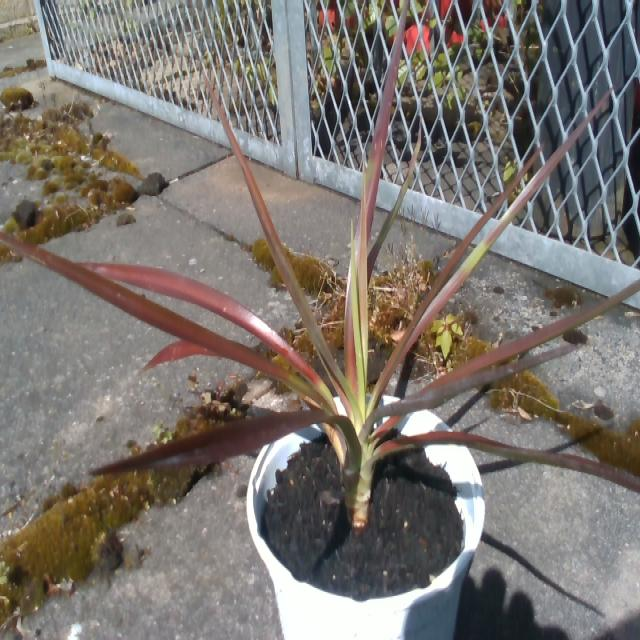Yucca-aloifolia: (0, 233, 319, 399), (411, 91, 610, 337), (203, 75, 354, 399), (374, 148, 541, 389), (405, 280, 639, 399), (83, 263, 311, 372), (387, 423, 639, 489), (91, 411, 346, 473), (374, 347, 574, 420), (362, 0, 407, 240), (369, 141, 419, 277), (145, 340, 214, 368), (345, 227, 356, 389)
